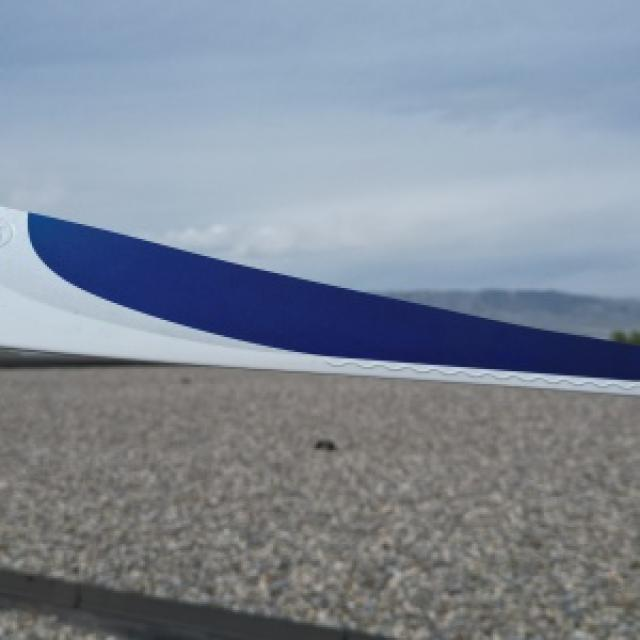healthy: (0, 205, 638, 390)
